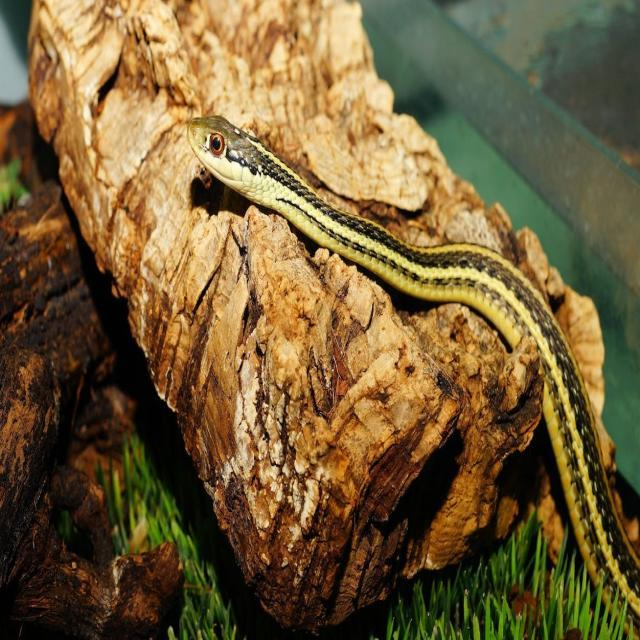Snake: (177, 98, 640, 632)
